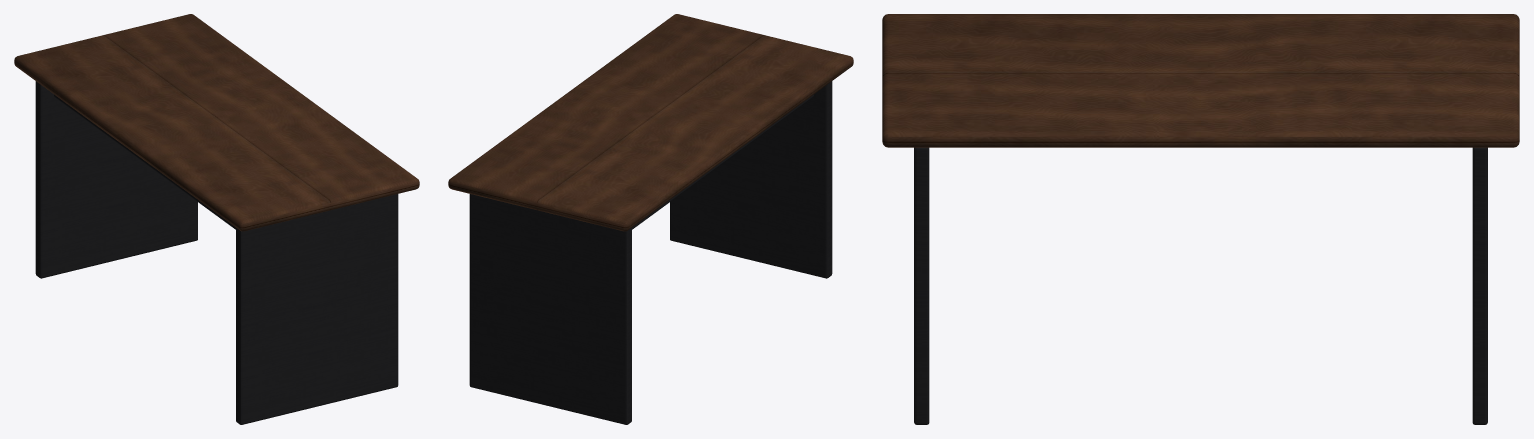
The model's file is study_desk.glb.
The picture shows the model from 3 angles, left to right: view 1: azimuth 30°, elevation 25°; view 2: azimuth 150°, elevation 25°; view 3: azimuth 270°, elevation 25°; orthographic projection. The views are drawn at different scales.
Parts seen in each view (by area): view 1: study_desk; view 2: study_desk; view 3: study_desk.
Boxes of the visible parts, x1,y1,x2,y2 form: study_desk: [14, 14, 419, 424]; study_desk: [448, 14, 853, 424]; study_desk: [882, 14, 1519, 424].
Bounding box in the file's own units: 0.66 × 0.75 × 1.45.
Materials: 2 (2 with a texture image).
